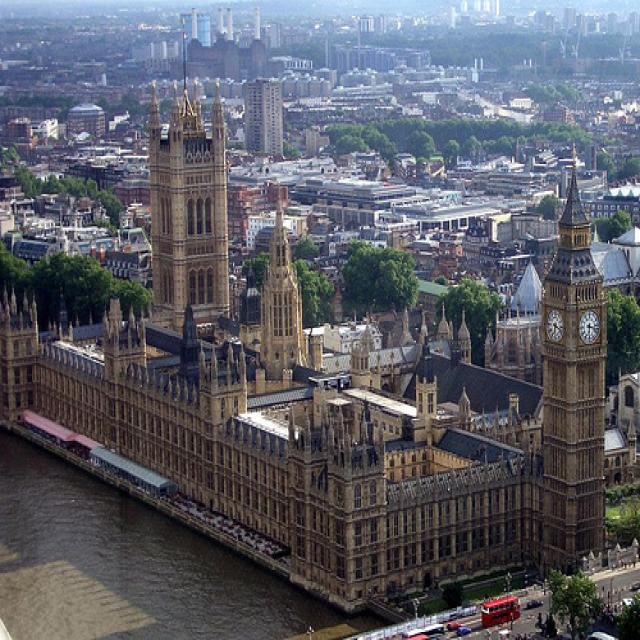Vehicle: (480, 594, 521, 628), (402, 624, 446, 640), (456, 627, 472, 636), (528, 600, 544, 609), (447, 621, 461, 631), (630, 582, 640, 591)
